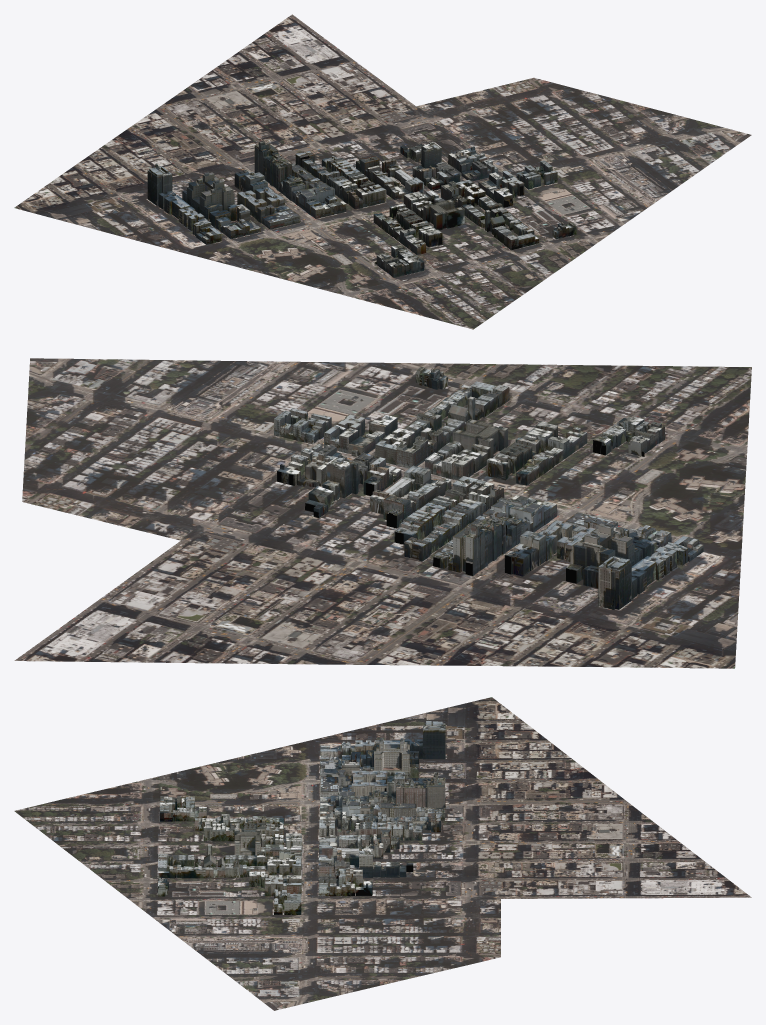
File: 20251214_city context_2.fbx
The picture shows the model from 3 angles, top to bottom: view 1: azimuth 30°, elevation 25°; view 2: azimuth 150°, elevation 25°; view 3: azimuth 270°, elevation 25°; orthographic projection. The views are drawn at different scales.
Visible parts, largest first — view 1: nyg24, nyb115, nyb118_8, nyb117_12, nyb116_5, nyb116, nyb117_4, nyb119_9, nyb117_3, nyb117_5, nyb118_15, nyb117 (+13 smaller); view 2: nyg24, nyb115, nyb118_8, nyb117_12, nyb116_5, nyb117_5, nyb118_10, nyb117_3, nyb119_5, nyb119_9, nyb117, nyb118_9 (+17 smaller); view 3: nyg24, nyb115, nyb117_12, nyb118_8, nyb116_5, nyb119_9, nyb118_5, nyb118_9, nyb116, nyb117_3, nyb117_4, nyb119_5 (+12 smaller).
Part boxes in pixels (x1,y1,x2,y2): nyg24: [14, 14, 751, 329]; nyb115: [147, 163, 221, 244]; nyb118_8: [403, 190, 464, 230]; nyb117_12: [254, 140, 305, 200]; nyb116_5: [182, 172, 234, 215]; nyb116: [204, 203, 260, 239]; nyb117_4: [291, 181, 346, 218]; nyb119_9: [448, 146, 498, 181]; nyb117_3: [389, 203, 442, 247]; nyb117_5: [234, 169, 285, 207]; nyb118_15: [382, 158, 423, 199]; nyb117: [373, 213, 425, 255]; nyg24: [14, 358, 751, 668]; nyb115: [598, 536, 703, 609]; nyb118_8: [425, 419, 507, 480]; nyb117_12: [448, 515, 524, 575]; nyb116_5: [566, 523, 634, 588]; nyb117_5: [504, 519, 572, 576]; nyb118_10: [404, 499, 483, 561]; nyb117_3: [486, 421, 557, 480]; nyb119_5: [305, 457, 358, 517]; nyb119_9: [277, 444, 349, 487]; nyb117: [516, 427, 587, 485]; nyb118_9: [394, 489, 465, 544]; nyg24: [14, 697, 751, 1010]; nyb115: [320, 721, 445, 759]; nyb117_12: [369, 772, 445, 809]; nyb118_8: [234, 829, 302, 856]; nyb116_5: [374, 738, 418, 778]; nyb119_9: [318, 867, 372, 896]; nyb118_5: [169, 860, 265, 878]; nyb118_9: [337, 822, 422, 840]; nyb116: [320, 750, 374, 776]; nyb117_3: [203, 822, 283, 841]; nyb117_4: [319, 791, 370, 817]; nyb119_5: [354, 847, 413, 877].
Size of the model in its own units: 4120 by 4123 by 237.
6 materials, 6 textured.
